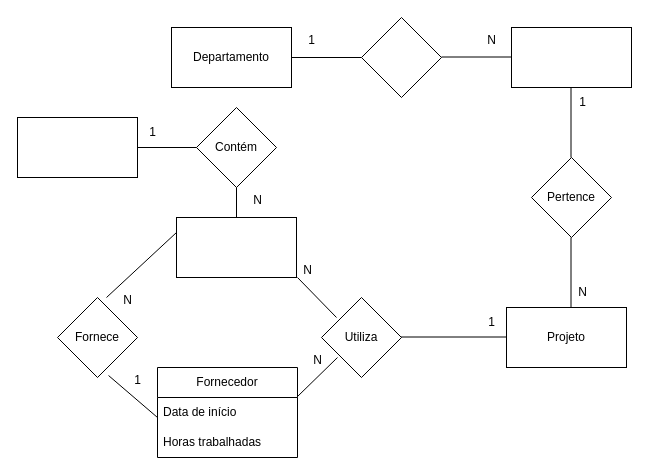
This 649x475 diagram has some shape labels left out. Here are the shapes that lost their labels. From the top down, the centre of each, then its label:
At pixel 401 57: "Tem".
At pixel 571 57: "Funcionário".
At pixel 77 147: "Depósito".
At pixel 236 247: "Peças".
